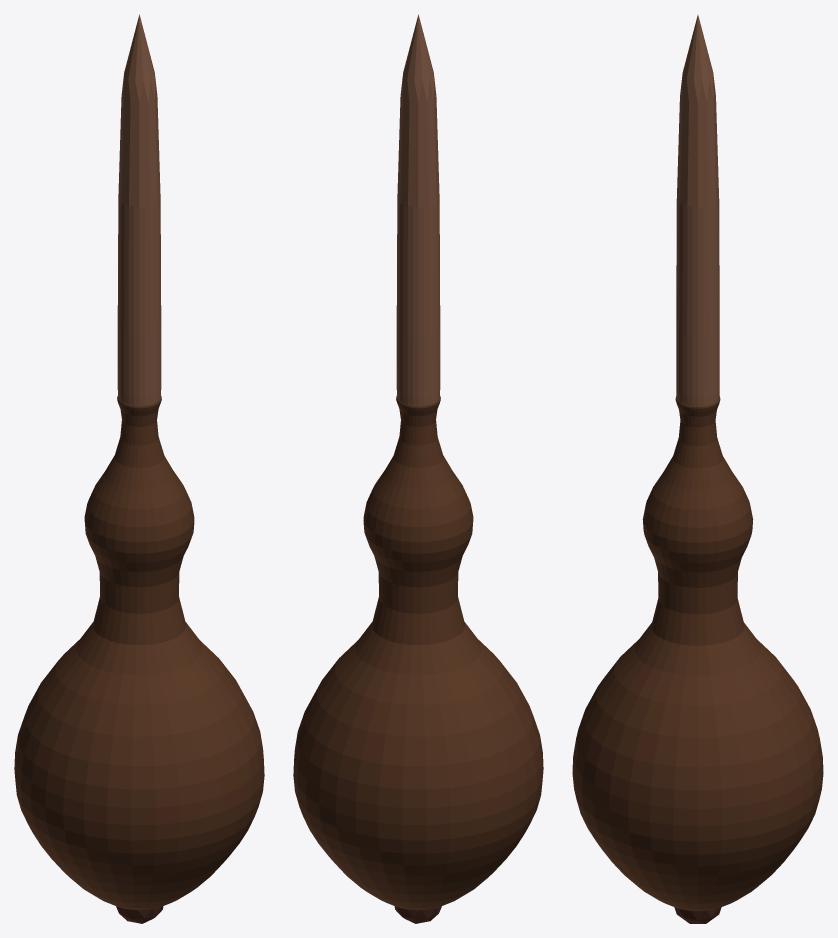
The model's file is Wand 600.glb.
3 renders of one model, left to right at view 1: azimuth 30°, elevation 25°; view 2: azimuth 150°, elevation 25°; view 3: azimuth 270°, elevation 25°, orthographic.
Visible parts, largest first — view 1: GeneratedWand; view 2: GeneratedWand; view 3: GeneratedWand.
Boxes of the visible parts, <box> form: GeneratedWand: <box>14,14,264,923</box>; GeneratedWand: <box>293,14,543,923</box>; GeneratedWand: <box>572,15,823,923</box>.
Size of the model in its own units: 0.123 by 0.4912 by 0.123.
